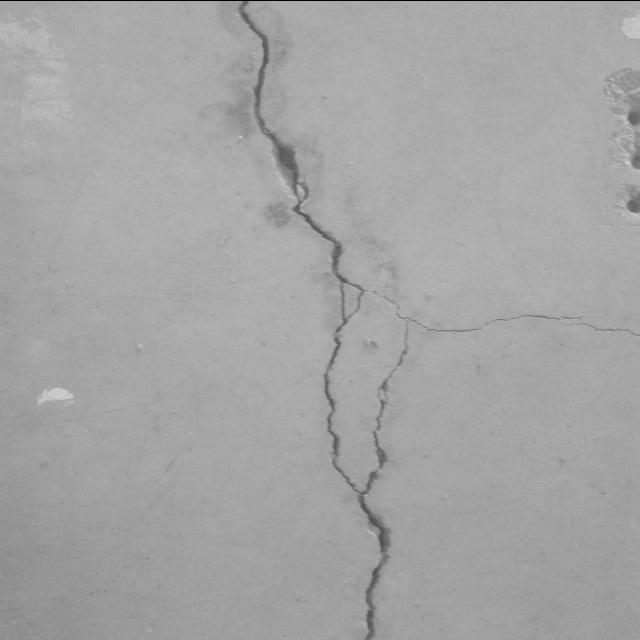SurfaceCrack: (195, 0, 434, 639)
